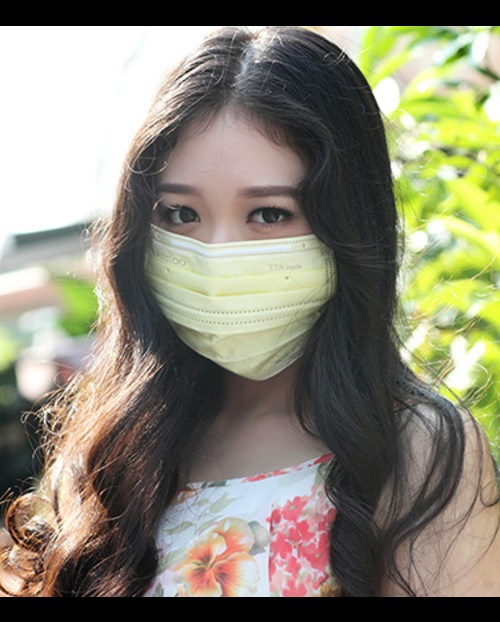face_mask: (145, 104, 323, 376)
